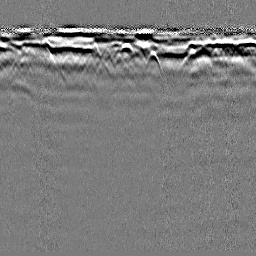cavity: (120, 41, 133, 55)
